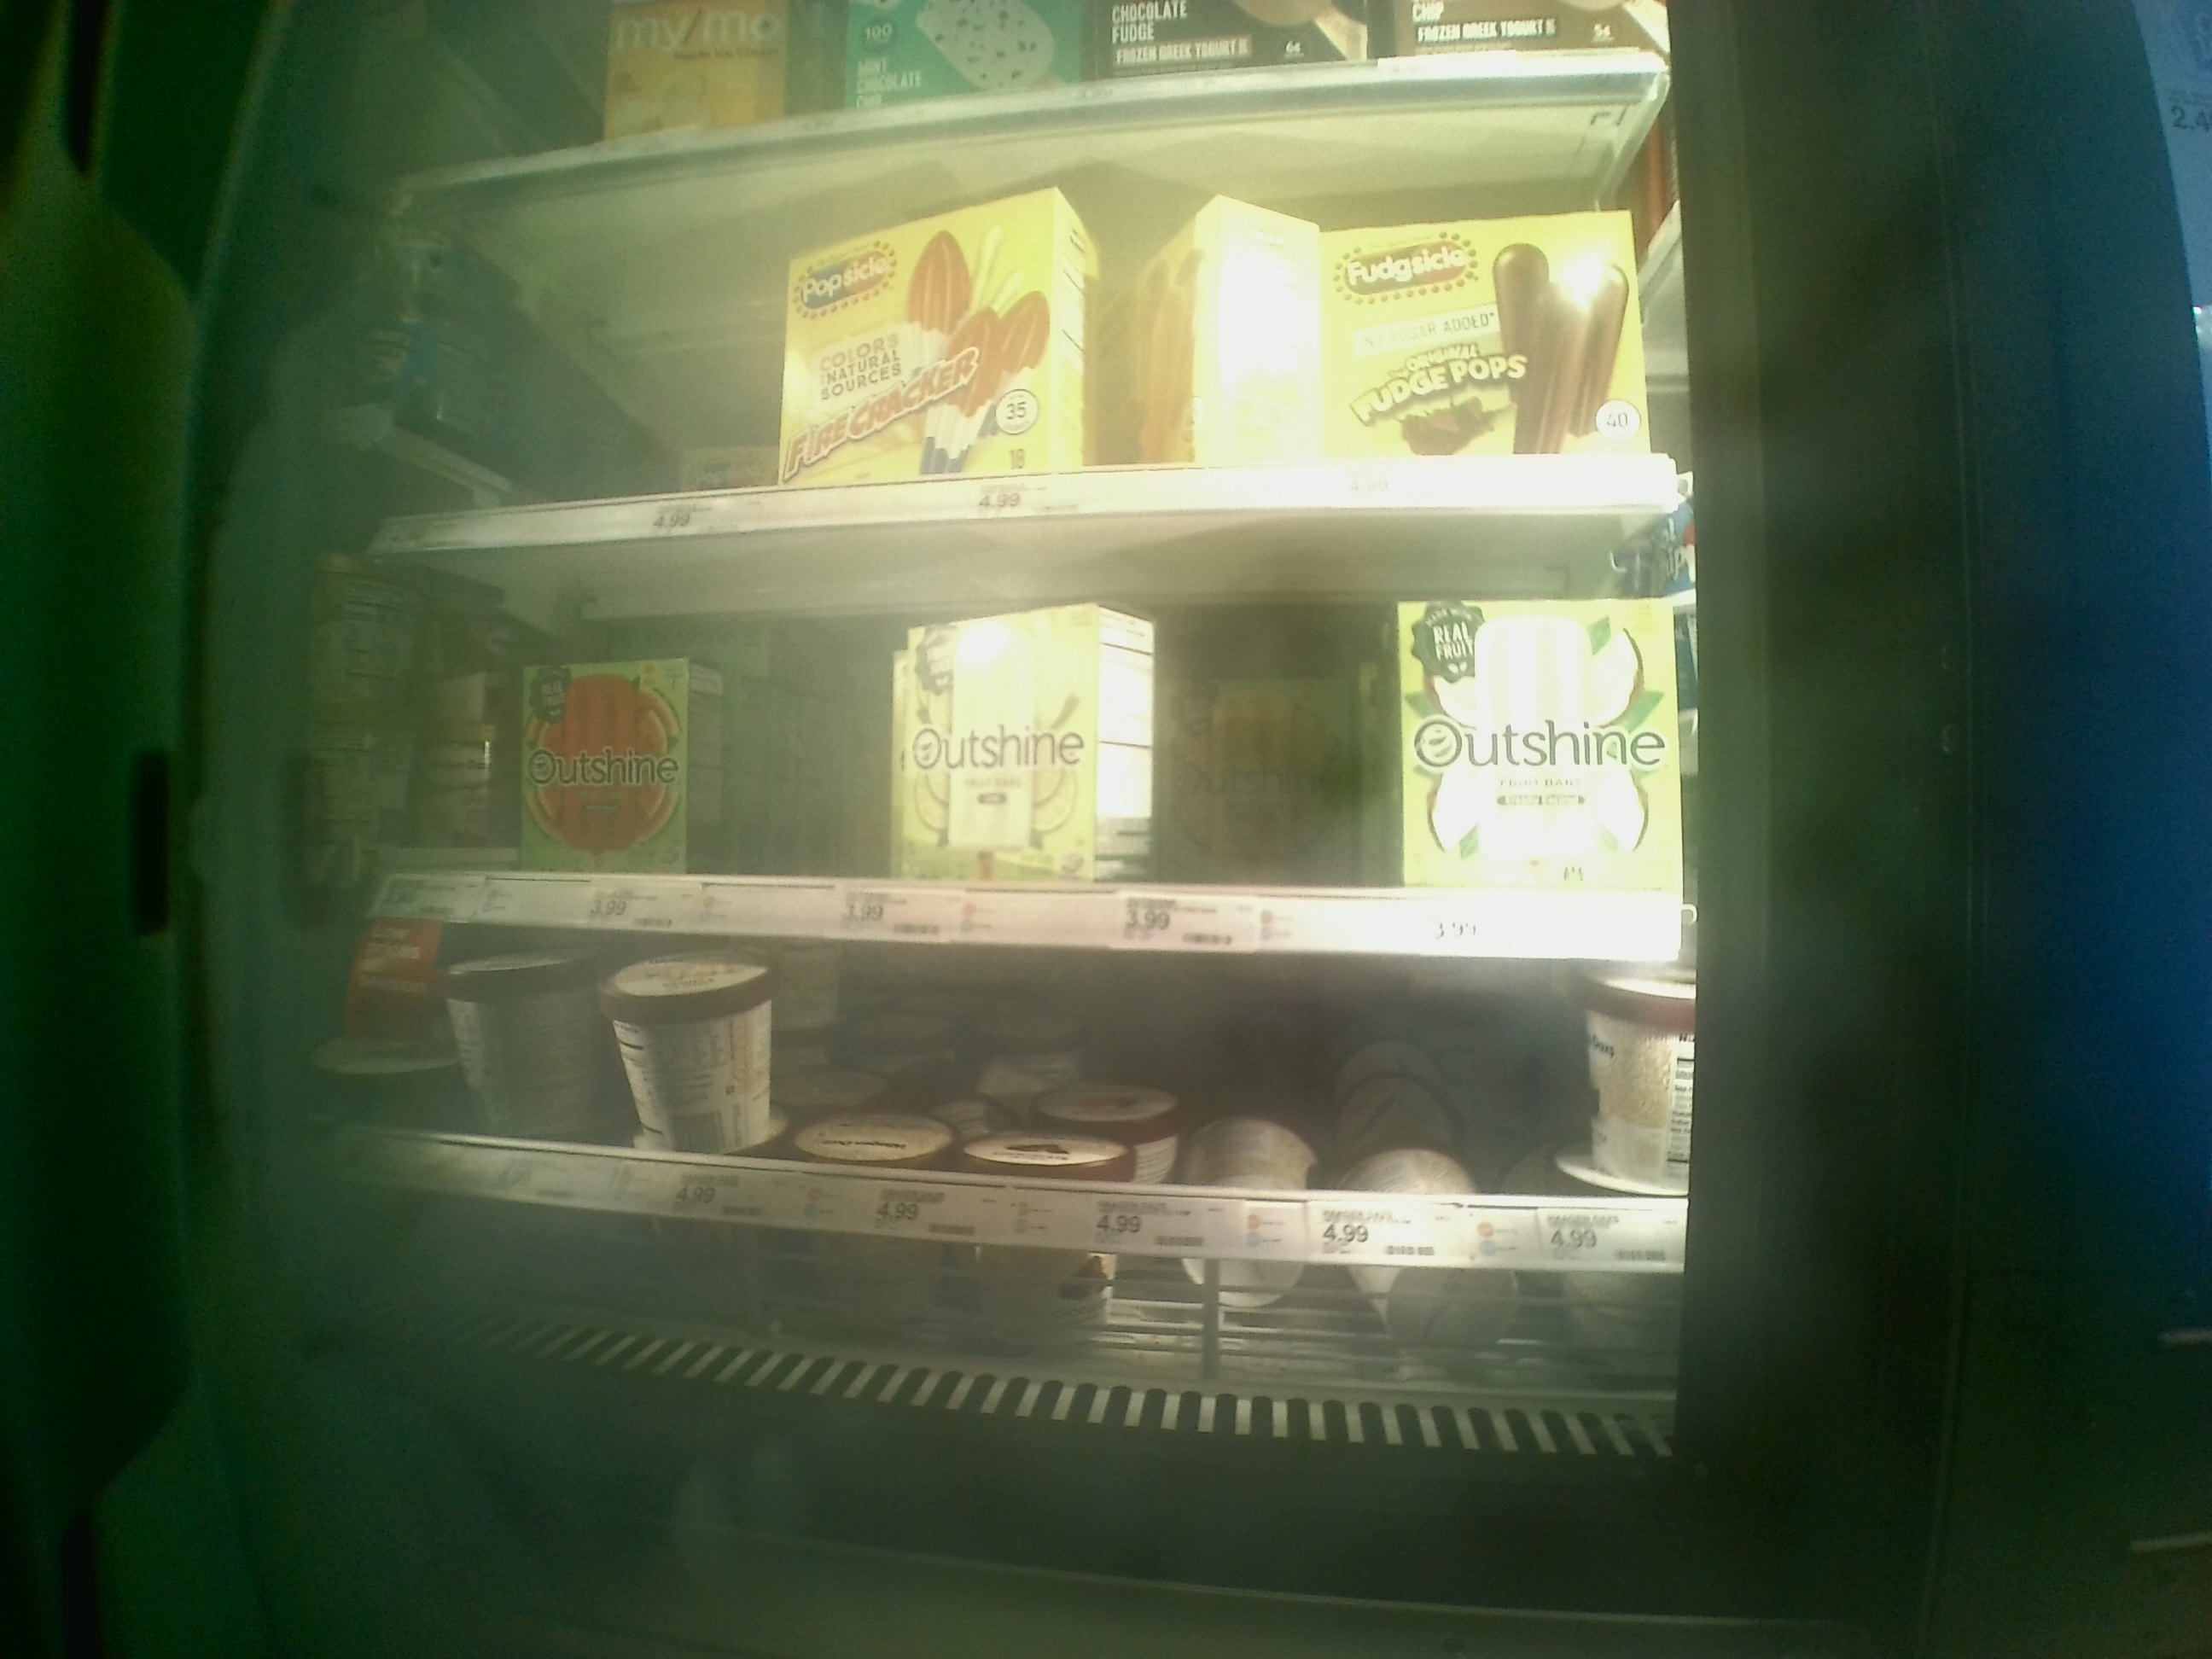ice-cream-shelf: (355, 512, 1696, 938)
